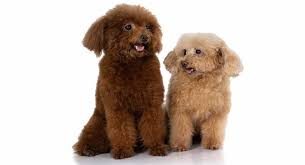Poodle: (79, 10, 168, 156), (166, 26, 246, 155)
